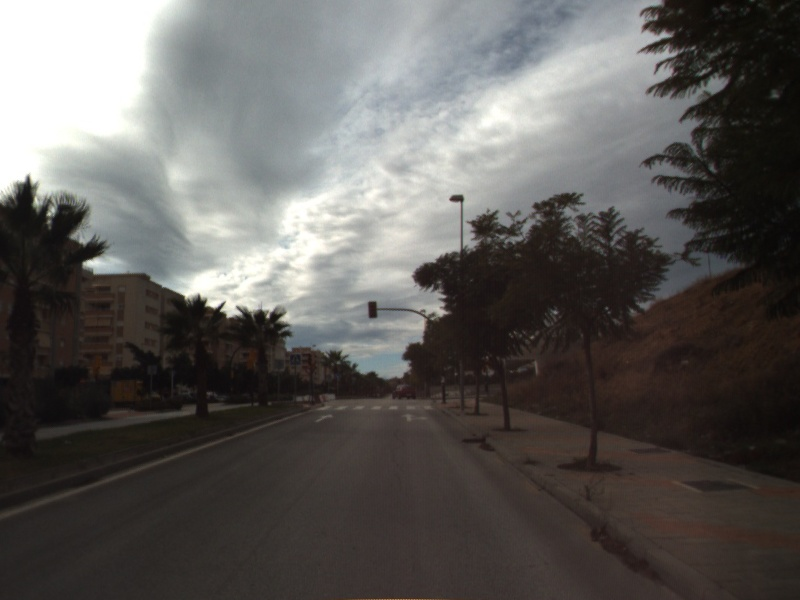STRAIGHT: (312, 412, 336, 424)
STRAIGHT_RIGHT: (399, 411, 431, 424)
